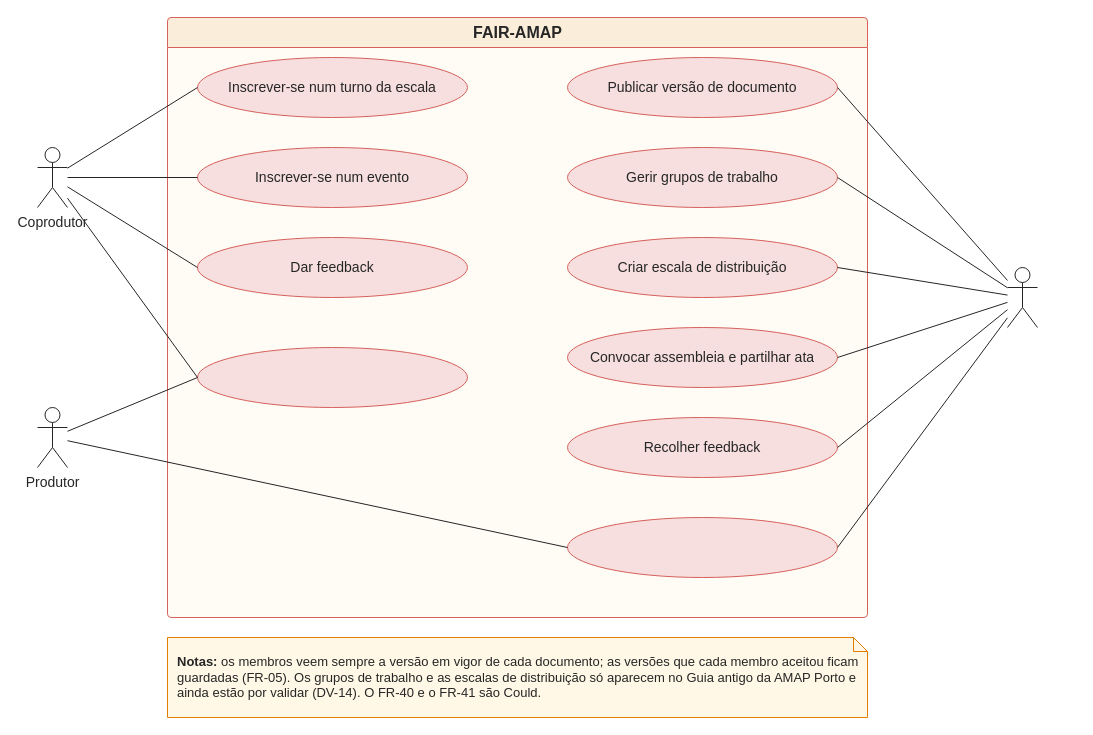
Image size: 1093x735. Some labels were removed from this diagram. The shapes that lost their labels are listed below. From the top down, each one's centre as x and y in pixels, then its label:
pixel 1022 297: Gestão da AMAP
pixel 332 377: Consultar documentos e regras
pixel 702 547: Criar evento
